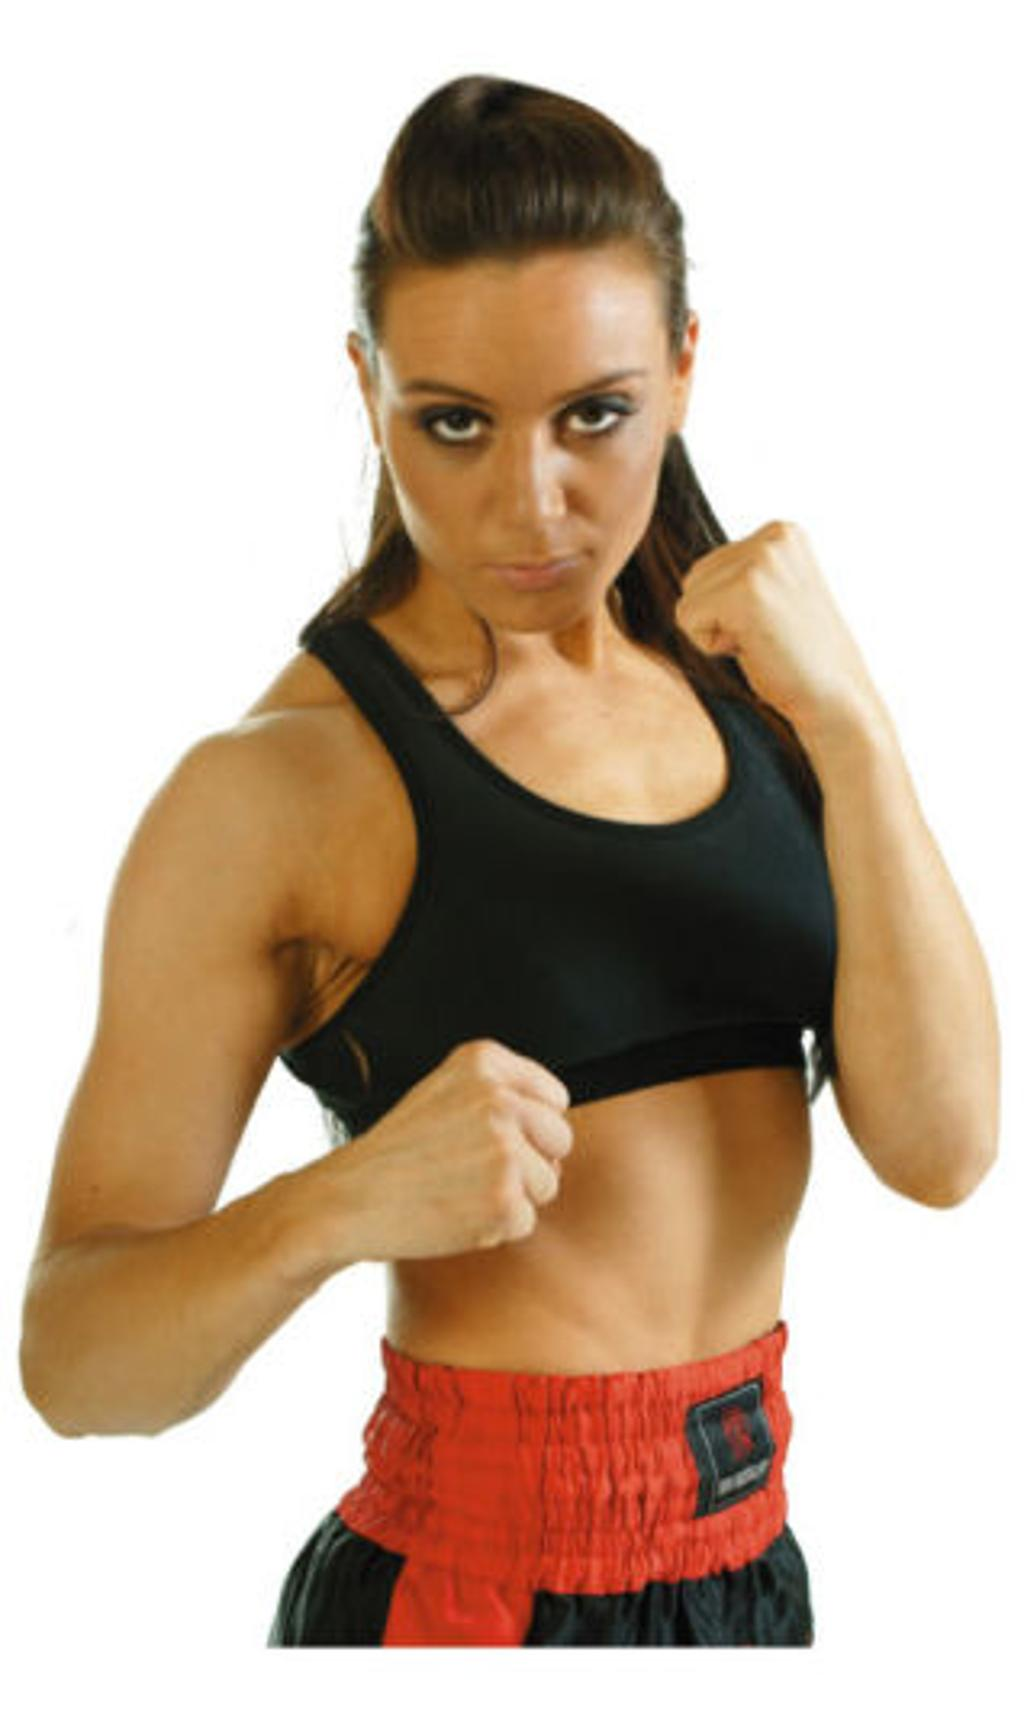face: (383, 261, 671, 634)
